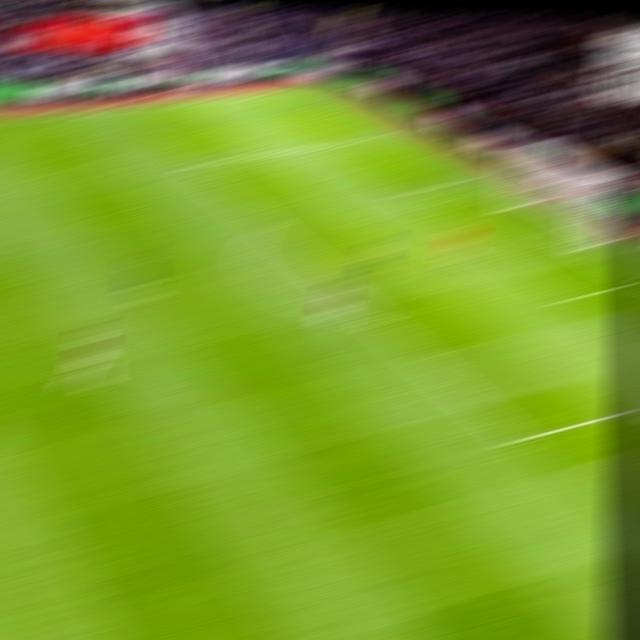bigarea_bottom_inner: (504, 434, 533, 447)
bigarea_top_inner: (180, 161, 206, 169)
bigarea_top_outter: (373, 134, 397, 139)
bottom_arc_area_intersection: (367, 319, 393, 328)
corner: (291, 89, 316, 91)
smallarea_bottom_inner: (551, 293, 579, 305)
smallarea_top_inner: (386, 191, 412, 198)
smallarea_top_outter: (449, 178, 474, 184)
top_arc_area_intersection: (253, 222, 279, 230)
